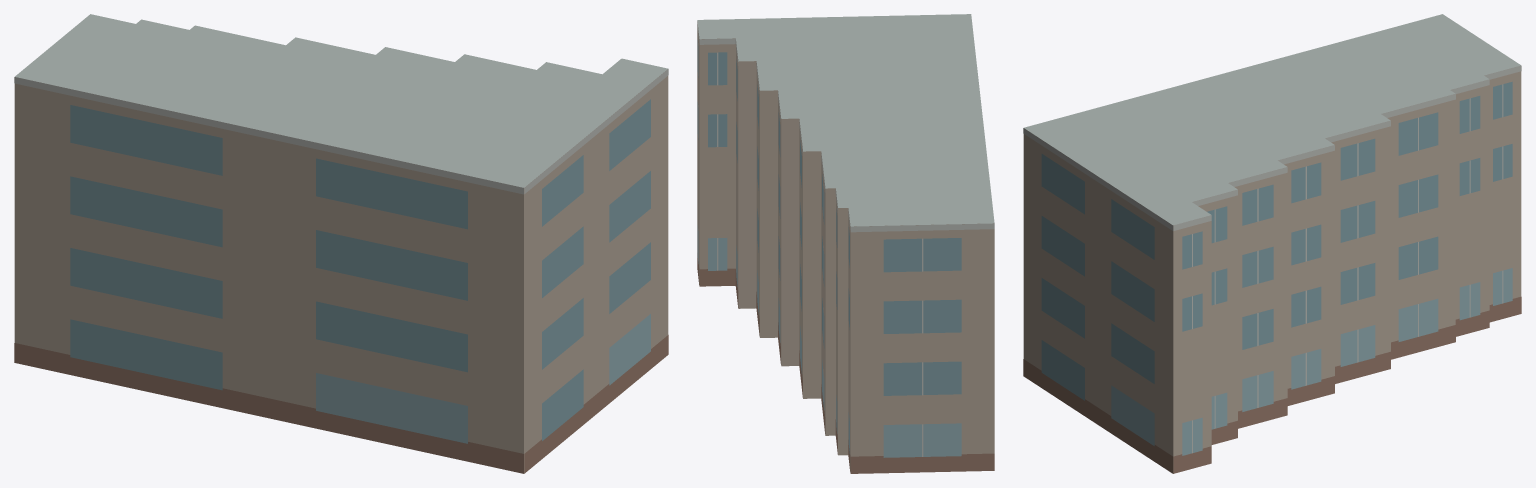
File: survey-upis-32924099.glb
3 views of the same model, side by side, from view 1: azimuth 30°, elevation 25°; view 2: azimuth 150°, elevation 25°; view 3: azimuth 270°, elevation 25° (orthographic). The views are drawn at different scales.
Parts seen in each view (by area): view 1: survey-upis-32924099.tmp; view 2: survey-upis-32924099.tmp; view 3: survey-upis-32924099.tmp.
Part boxes in pixels (x1,y1,x2,y2): survey-upis-32924099.tmp: [14, 14, 668, 473]; survey-upis-32924099.tmp: [697, 14, 994, 473]; survey-upis-32924099.tmp: [1023, 14, 1521, 473].
Bounding box in the file's own units: 19.18 × 10.5 × 19.08.
